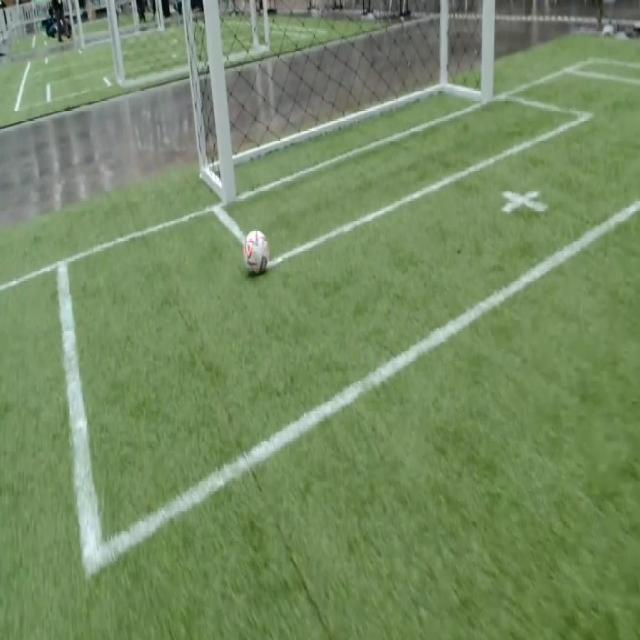ball: (244, 229, 269, 275)
goalpost: (214, 143, 238, 210), (476, 53, 498, 107)
